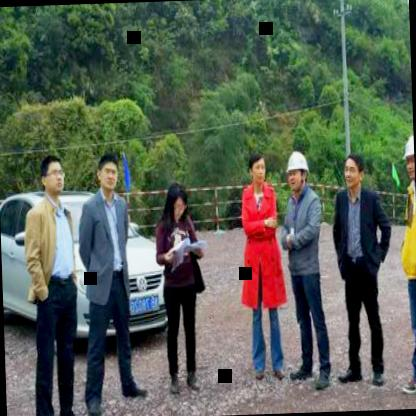head: (35, 152, 68, 198), (94, 152, 124, 197), (165, 178, 191, 226), (341, 154, 364, 192), (246, 149, 268, 187)
helmet: (282, 148, 312, 193), (400, 130, 416, 184)
